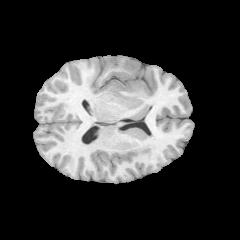glioma: (110, 65, 150, 94)
